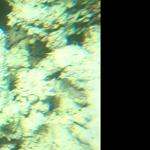dead: (4, 3, 98, 147)
